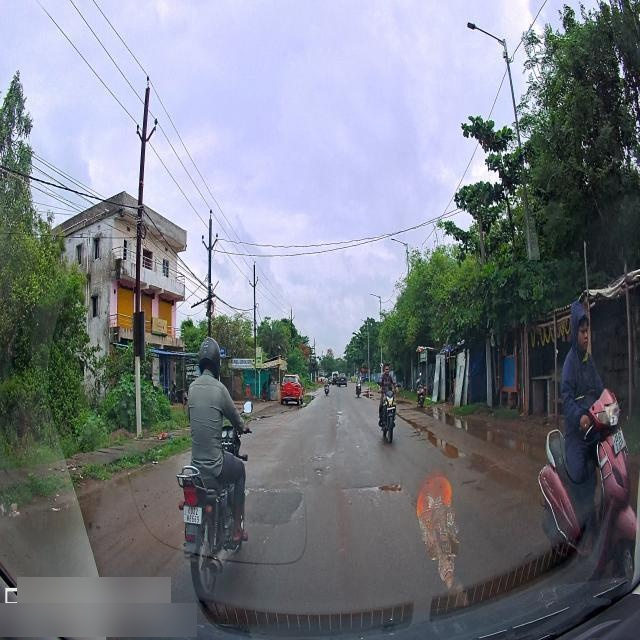pothole: (419, 418, 466, 464), (344, 480, 406, 494), (312, 451, 332, 463), (314, 466, 326, 482), (336, 403, 341, 412)
